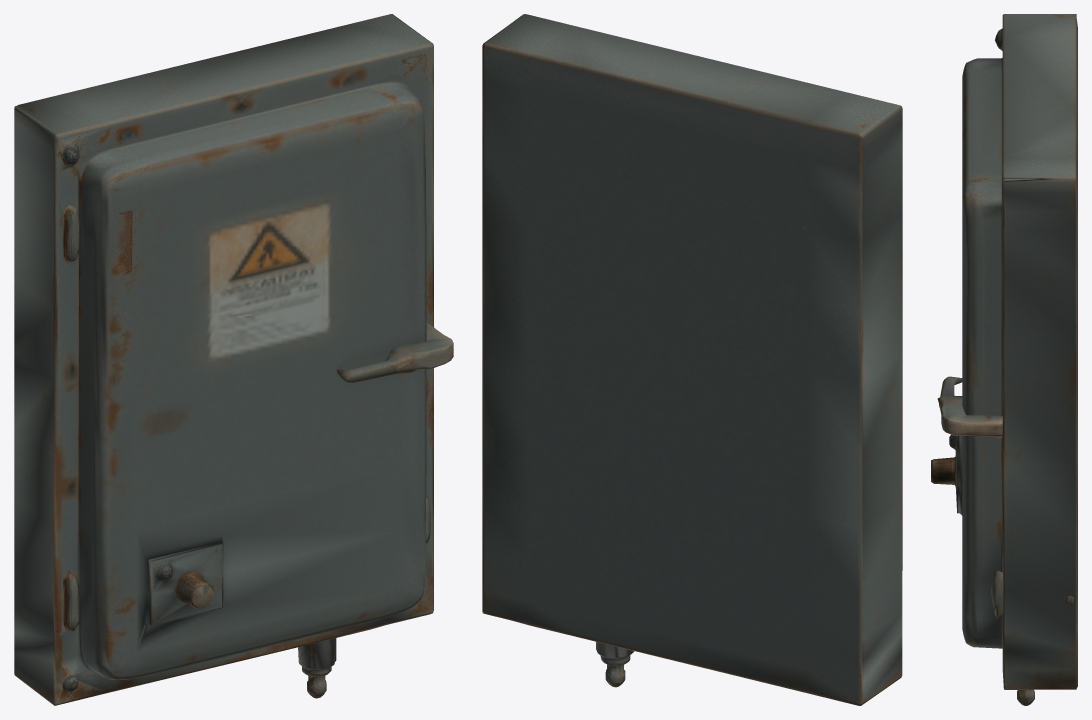
File: ElectricalPanel.fbx
3 views of the same model, side by side, from view 1: azimuth 30°, elevation 25°; view 2: azimuth 150°, elevation 25°; view 3: azimuth 270°, elevation 25° (orthographic). The views are drawn at different scales.
Parts seen in each view (by area): view 1: mesh_node; view 2: mesh_node; view 3: mesh_node.
Part boxes in pixels (x1,y1,x2,y2): mesh_node: [14, 14, 453, 705]; mesh_node: [482, 14, 902, 705]; mesh_node: [931, 14, 1077, 705].
Bounding box in the file's own units: 119 × 190 × 44.23.
1 material, 1 textured.
